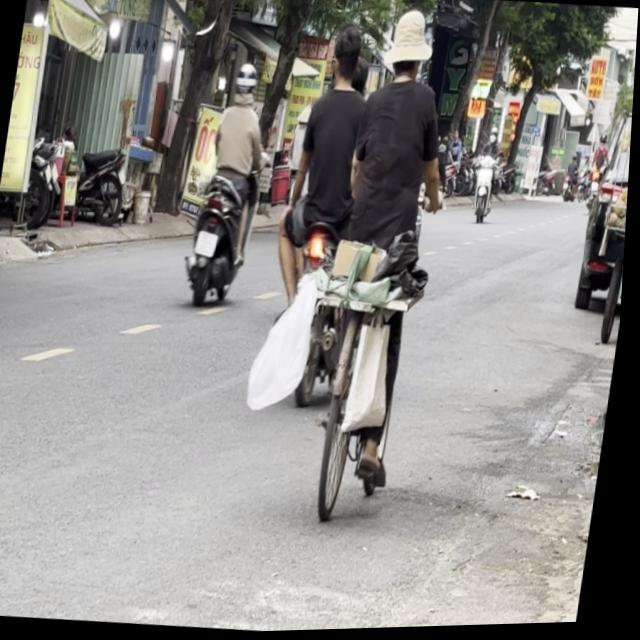helmet: (230, 60, 261, 105)
licenseplate: (255, 22, 383, 403), (181, 58, 277, 313)
motorcyclist: (327, 24, 365, 88)
nohelmet: (197, 230, 222, 259)
